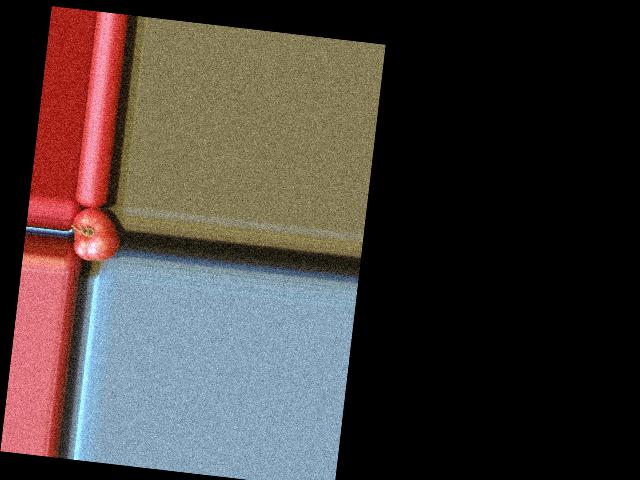tomato: (69, 206, 123, 263)
